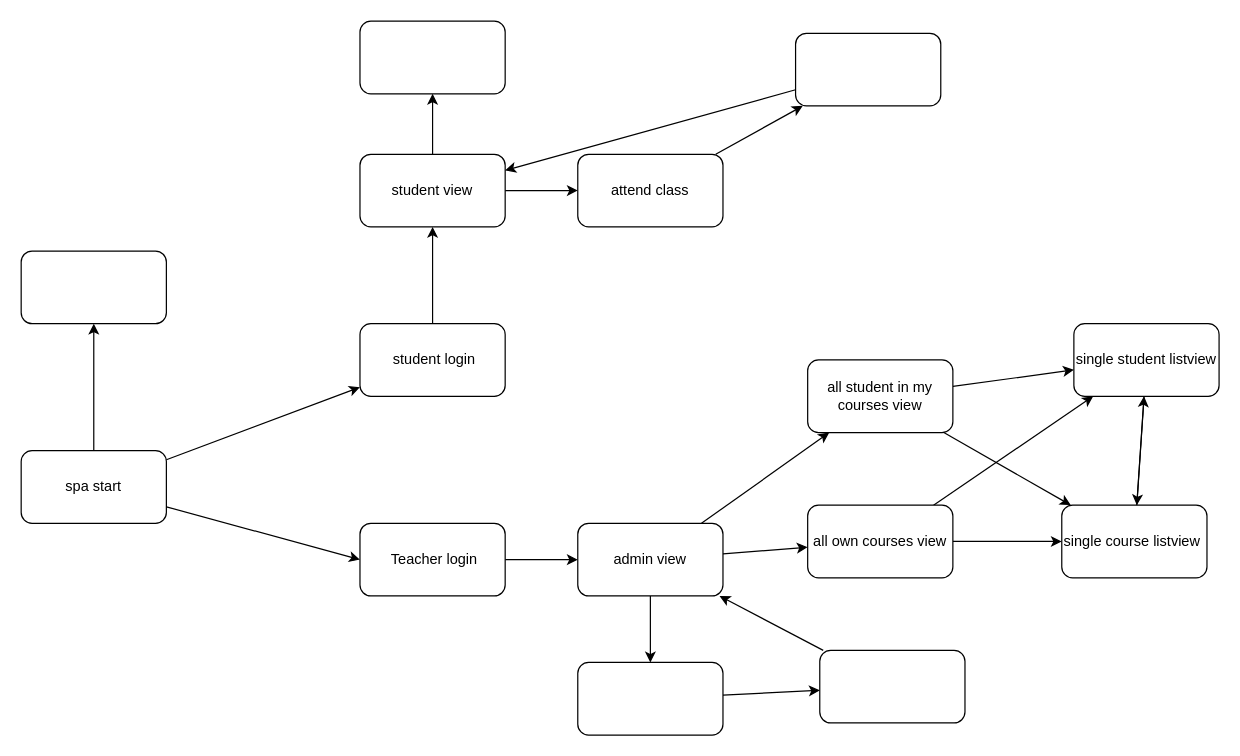
Image size: 1240x756. Some labels were removed from this diagram. The shapes that lost their labels are listed below. From the top down, each one's box as (x1, y1, x2, y2) in pixels, then its label:
(359, 20, 505, 94): student stats
(794, 32, 941, 106): attendance confirmed
(20, 250, 166, 324): general stats
(577, 661, 723, 735): get courses from open data
(819, 649, 965, 723): create course
